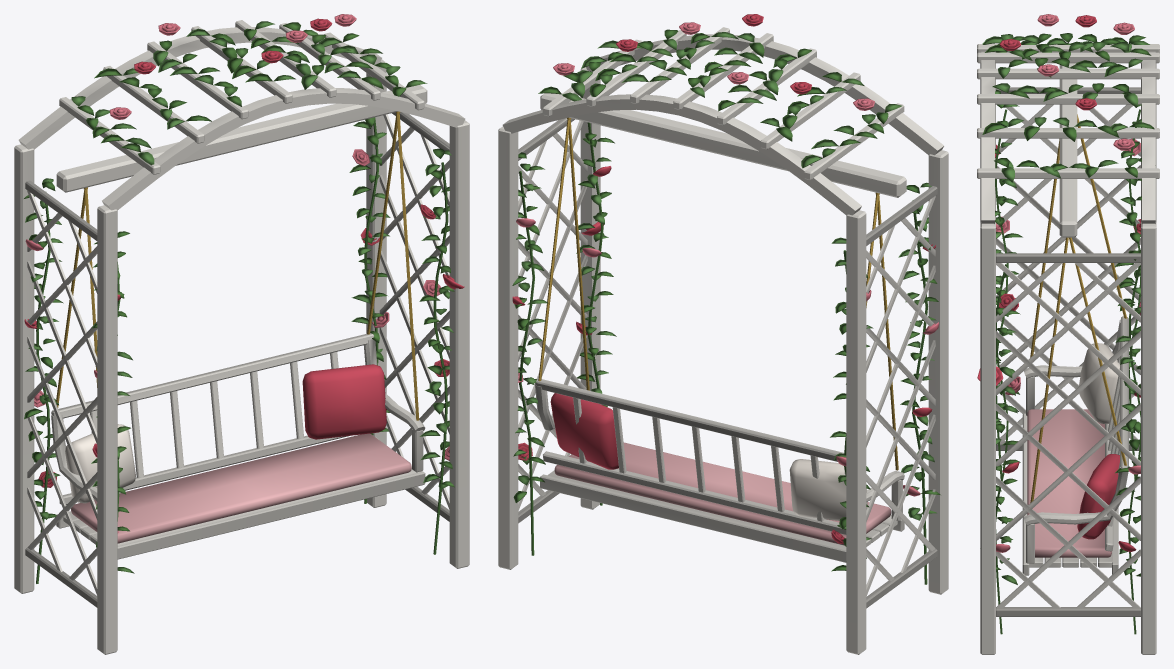
Rendered from roseArbourSwing.glb.
3 renders of one model, left to right at view 1: azimuth 30°, elevation 25°; view 2: azimuth 150°, elevation 25°; view 3: azimuth 270°, elevation 25°, orthographic. The views are drawn at different scales.
Parts seen in each view (by area): view 1: body, swing; view 2: body, swing; view 3: body, swing.
Boxes of the visible parts, <box> form: body: <box>14,14,469,654</box>; swing: <box>51,113,425,559</box>; body: <box>498,14,948,654</box>; swing: <box>535,119,904,562</box>; body: <box>977,14,1159,654</box>; swing: <box>1022,114,1128,575</box>.
Size of the model in its own units: 1.83 by 2.61 by 0.82.
